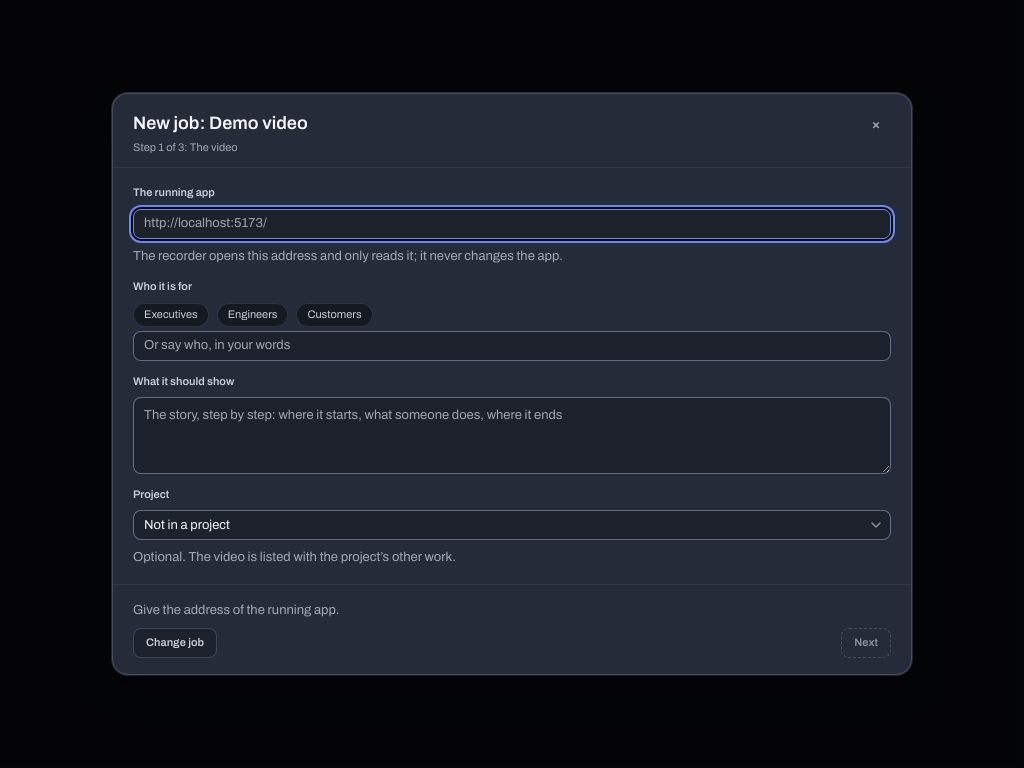
it: the Demo video job (studio#664) › Next waits for a real http(s) address, an audience and what to show, and says which is missing
Check: the button with test id "launch-wizard-next" is disabled, box [841, 628, 891, 658]
Check: the message with test id "launch-wizard-blocker" reads "Give the address of the running app.", box [133, 603, 339, 617]
Type "localhost:5173" into the field with test id "launch-wizard-demo-url" at (512, 224), box [133, 209, 891, 239]
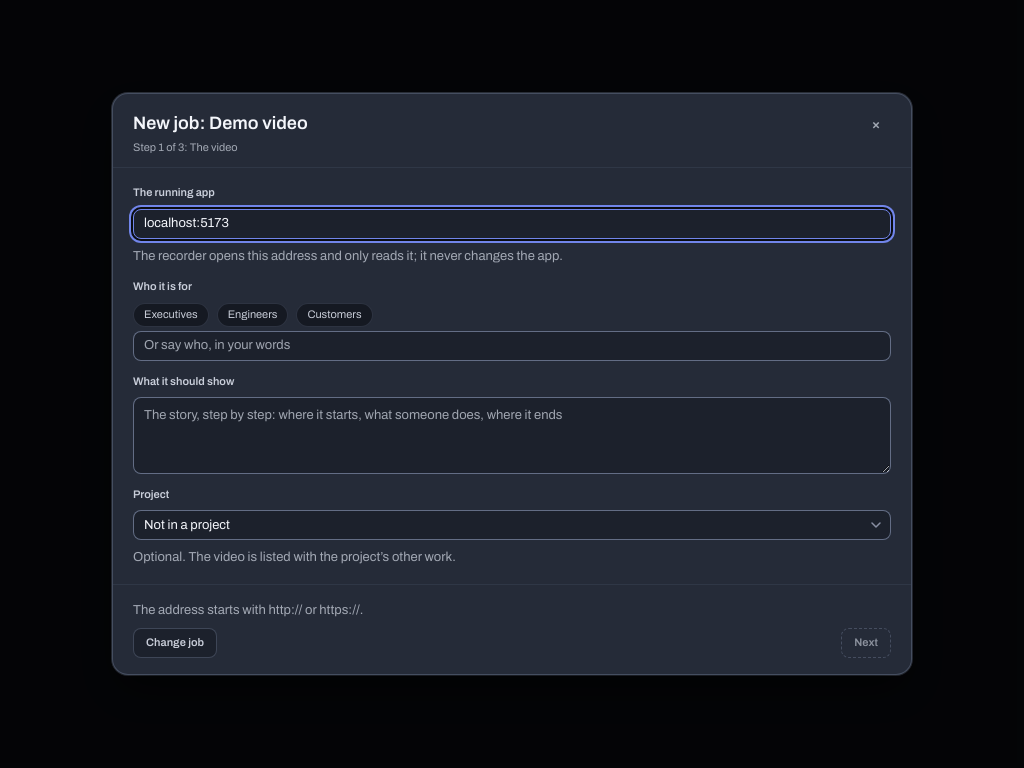
Check: the message with test id "launch-wizard-blocker" shows "http:// or https://", box [133, 603, 363, 617]
Replace the text in the field with test id "launch-wizard-demo-url" with "http://127.0.0.1:5173/" at (512, 224), box [133, 209, 891, 239]
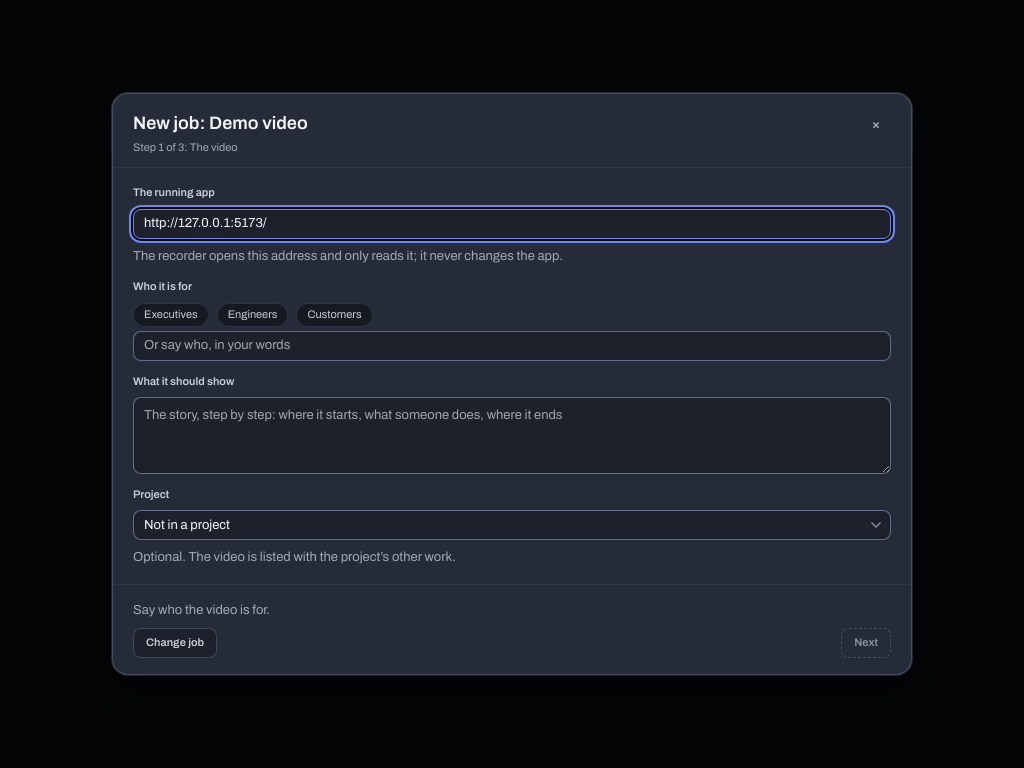
Check: the message with test id "launch-wizard-blocker" reads "Say who the video is for.", box [133, 603, 270, 617]
Type "New team leads" into the field with test id "launch-wizard-demo-audience" at (512, 346), box [133, 331, 891, 361]
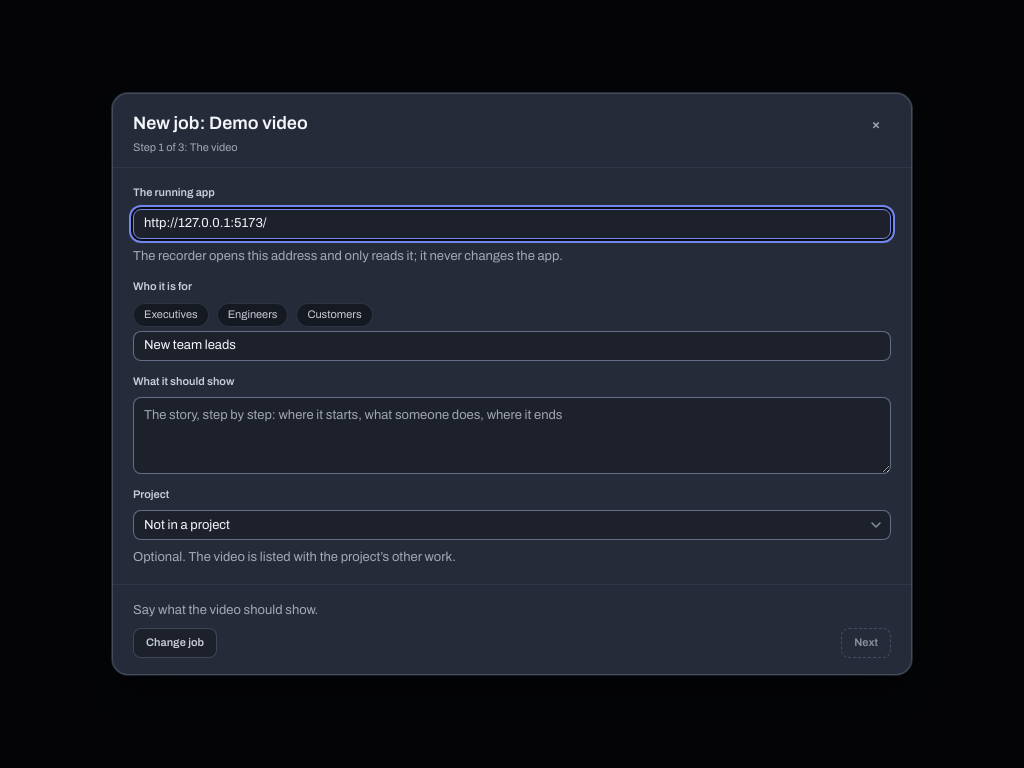
Check: the message with test id "launch-wizard-blocker" reads "Say what the video should show.", box [133, 603, 318, 617]
Replace the text in the text box with test id "launch-wizard-demo-show" with "The approval flow" at (512, 436), box [133, 397, 891, 474]
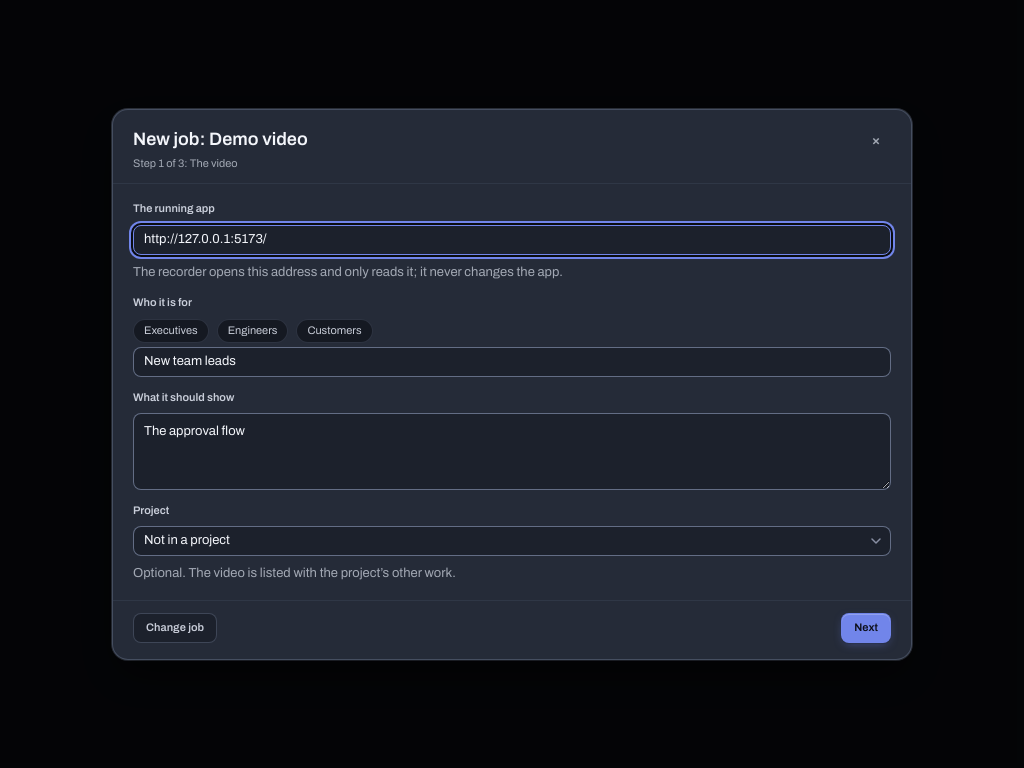
Check: the message with test id "launch-wizard-blocker" is gone
Check: the button with test id "launch-wizard-next" is enabled, box [841, 612, 891, 642]
